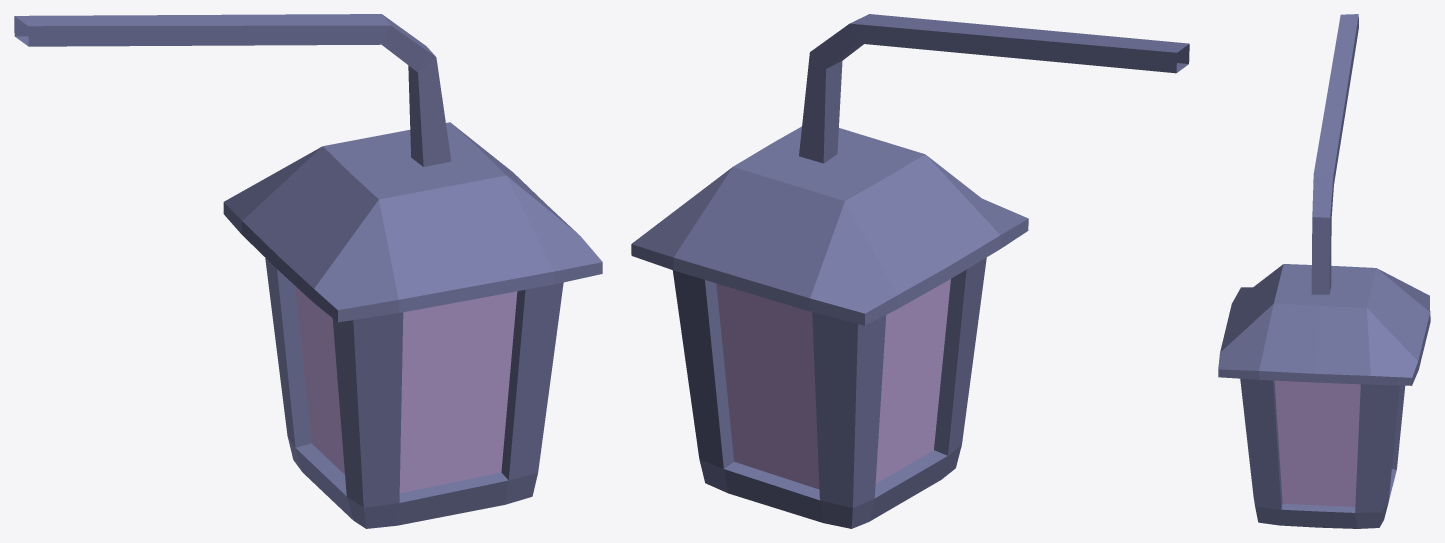
Rendered from Backyard_Lantern.fbx.
3 renders of one model, left to right at view 1: azimuth 30°, elevation 25°; view 2: azimuth 150°, elevation 25°; view 3: azimuth 270°, elevation 25°, orthographic. The views are drawn at different scales.
Visible parts, largest first — view 1: Backyard_Lantern; view 2: Backyard_Lantern; view 3: Backyard_Lantern.
Boxes of the visible parts, x1,y1,x2,y2 form: Backyard_Lantern: (14, 14, 602, 528); Backyard_Lantern: (631, 14, 1189, 528); Backyard_Lantern: (1218, 14, 1430, 528).
Size of the model in its own units: 52.07 by 52.78 by 27.73.
